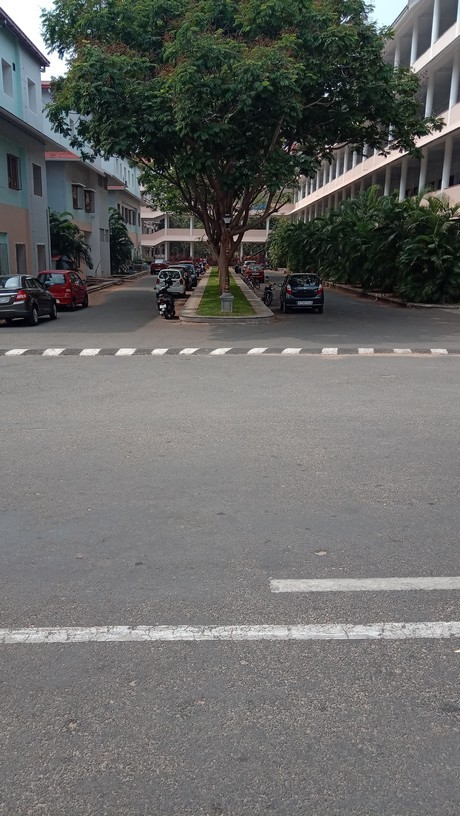bump: (1, 345, 459, 358)
